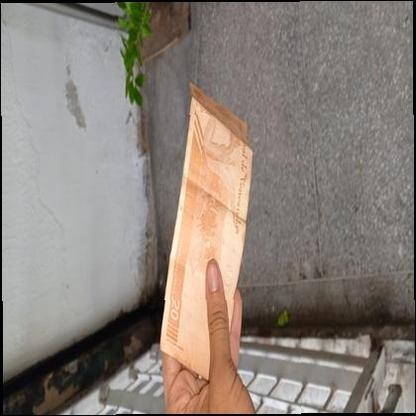vef_back: (158, 81, 252, 381)
